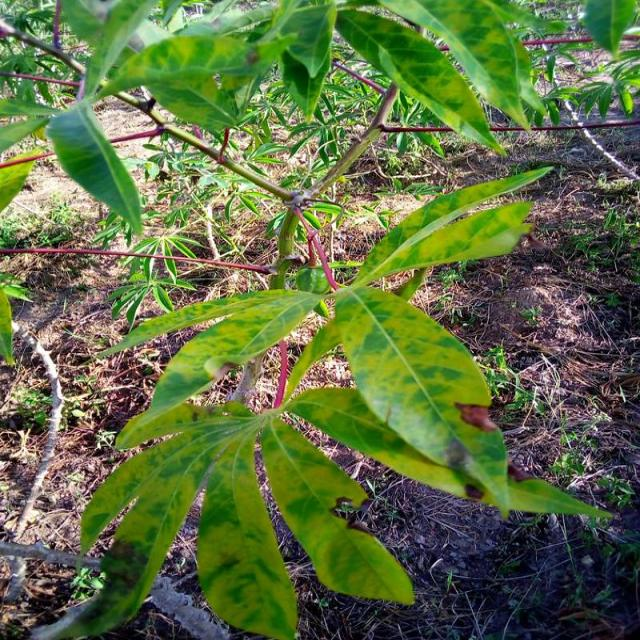cassava leaf: (112, 286, 326, 452), (258, 415, 416, 605), (334, 3, 507, 157), (347, 164, 553, 291), (102, 27, 272, 134), (44, 98, 142, 235)
